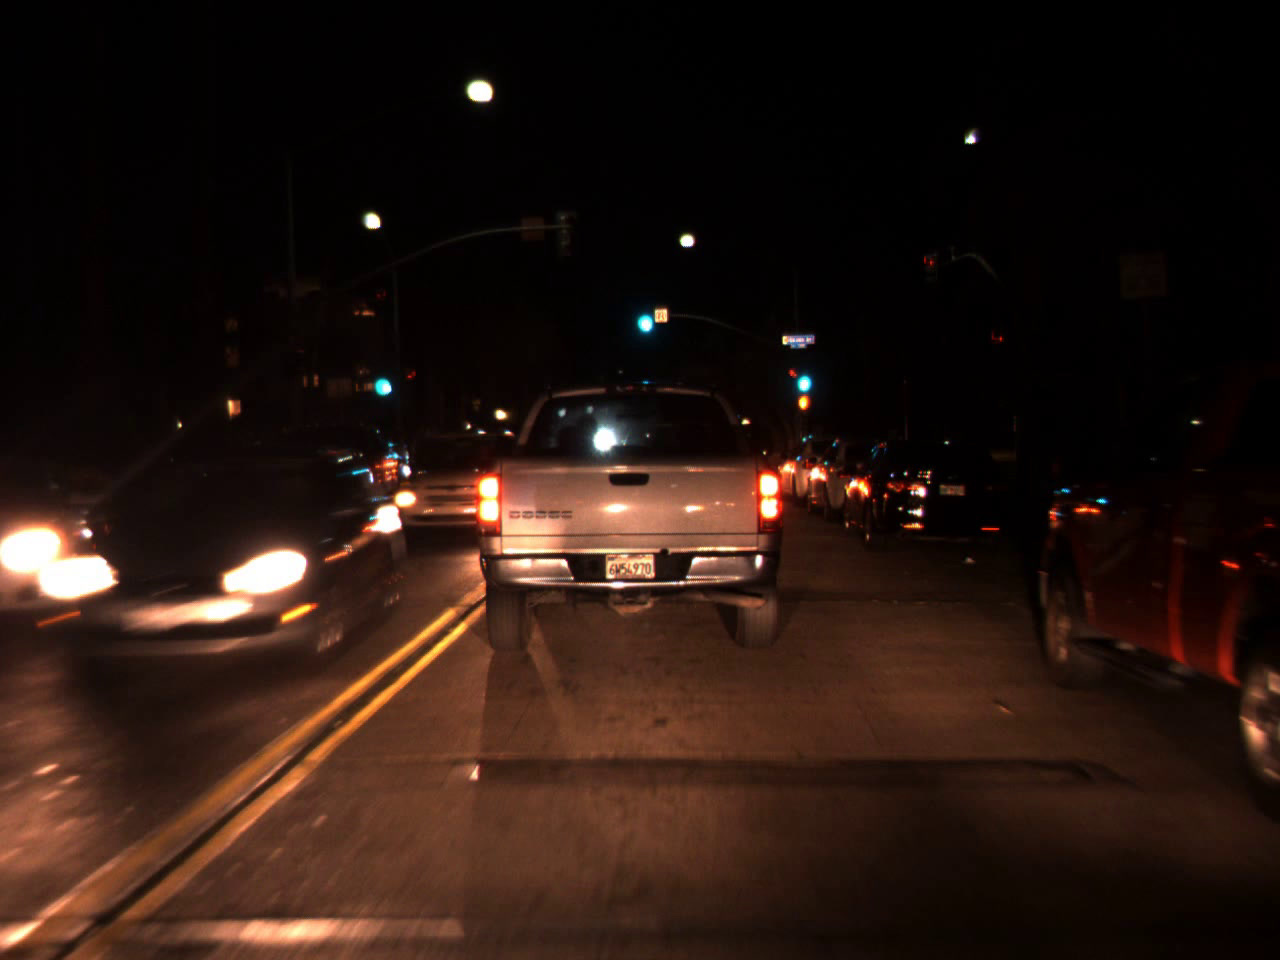go: (631, 293, 656, 338), (369, 359, 392, 401), (792, 353, 813, 398)
